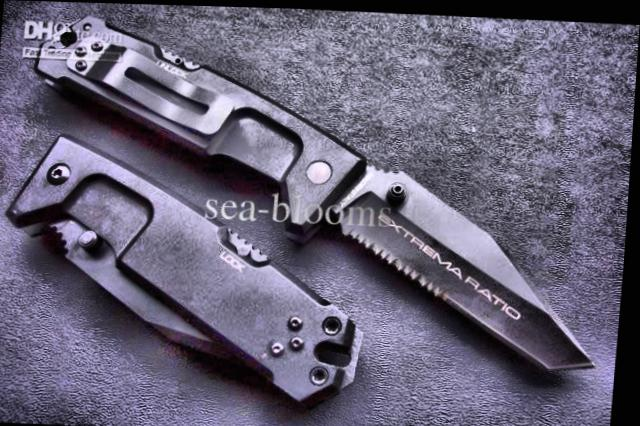knife: (320, 151, 620, 386)
